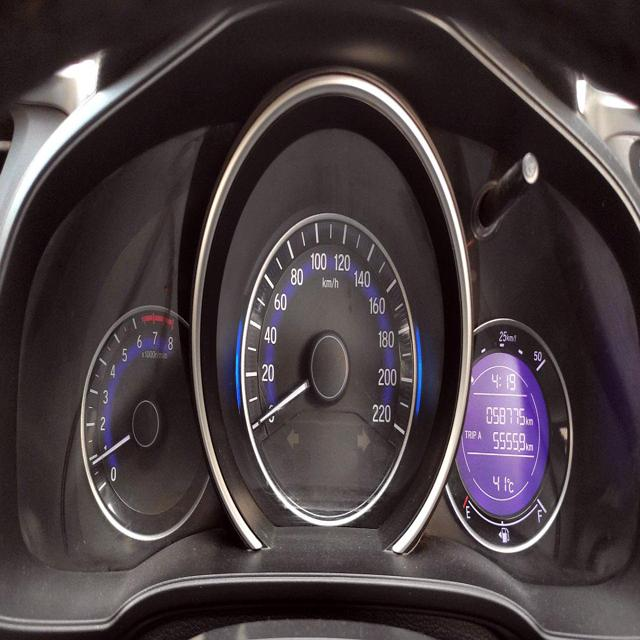odometer: (481, 399, 526, 428)
